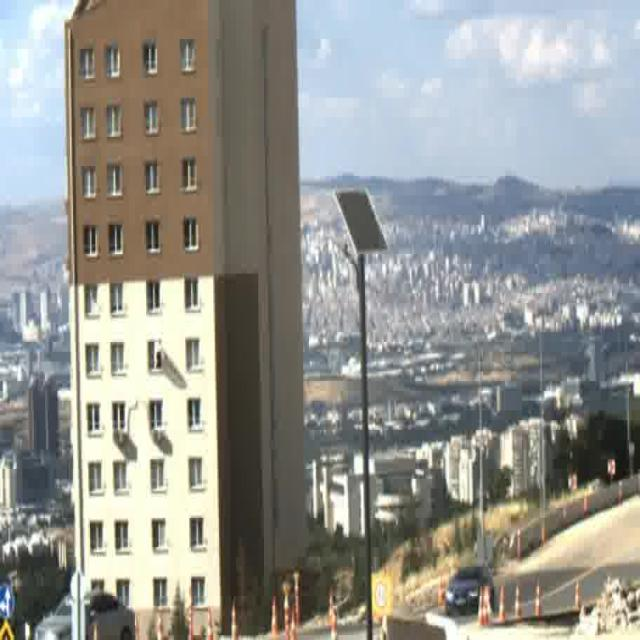Car: (35, 590, 135, 640), (445, 564, 495, 614)
